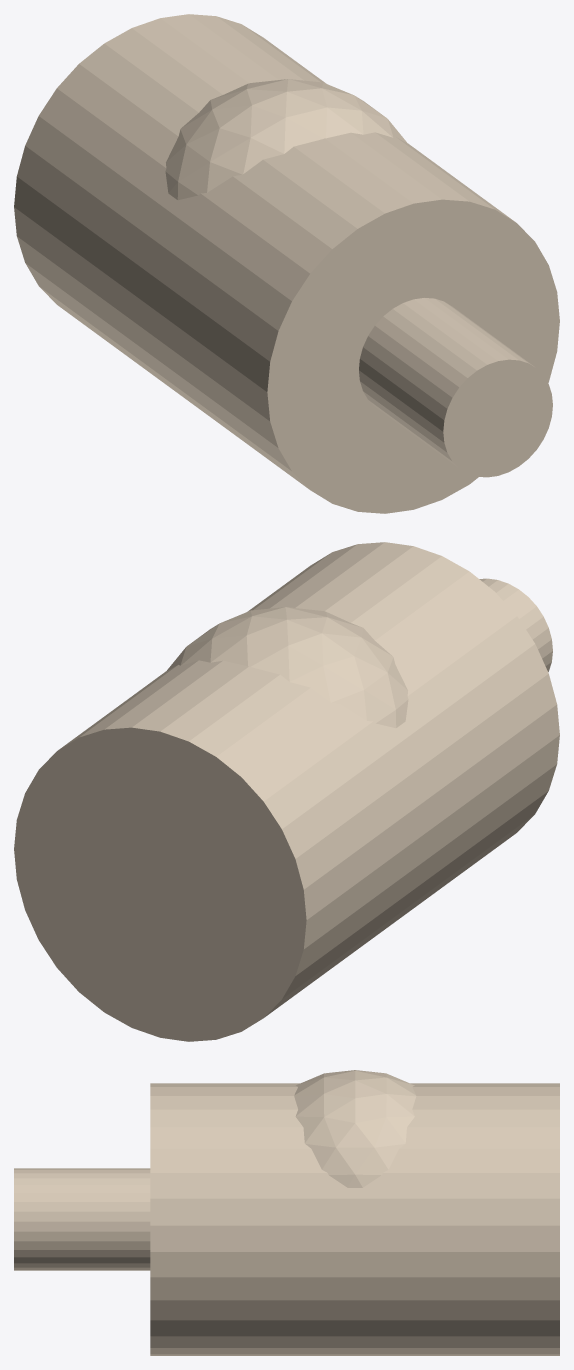
Rendered from human_torso.glb.
3 views of the same model, one above another, from view 1: azimuth 30°, elevation 25°; view 2: azimuth 150°, elevation 25°; view 3: azimuth 270°, elevation 25° (orthographic). The views are drawn at different scales.
Visible parts, largest first — view 1: world; view 2: world; view 3: world.
Part boxes in pixels (x1,y1,x2,y2): world: (14, 14, 559, 513); world: (14, 542, 559, 1041); world: (14, 1070, 559, 1355).
Size of the model in its own units: 0.8 by 0.85 by 1.6.
